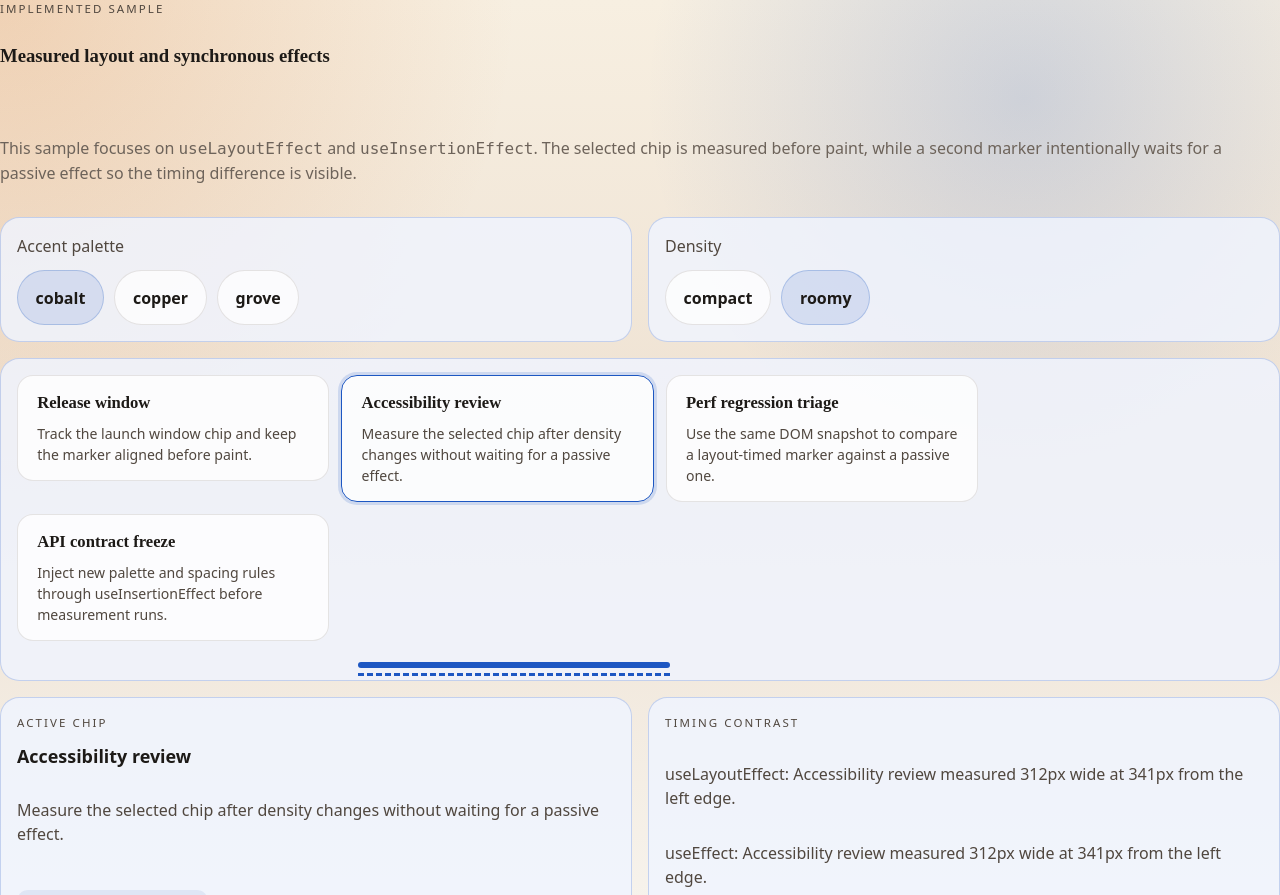
Scenario: layout effects sample › updates the active chip, palette, and density observations
The width and height of the screenshot is (1280, 895).
Click the button "copper". click: [160, 298]
box: [114,270,207,325]
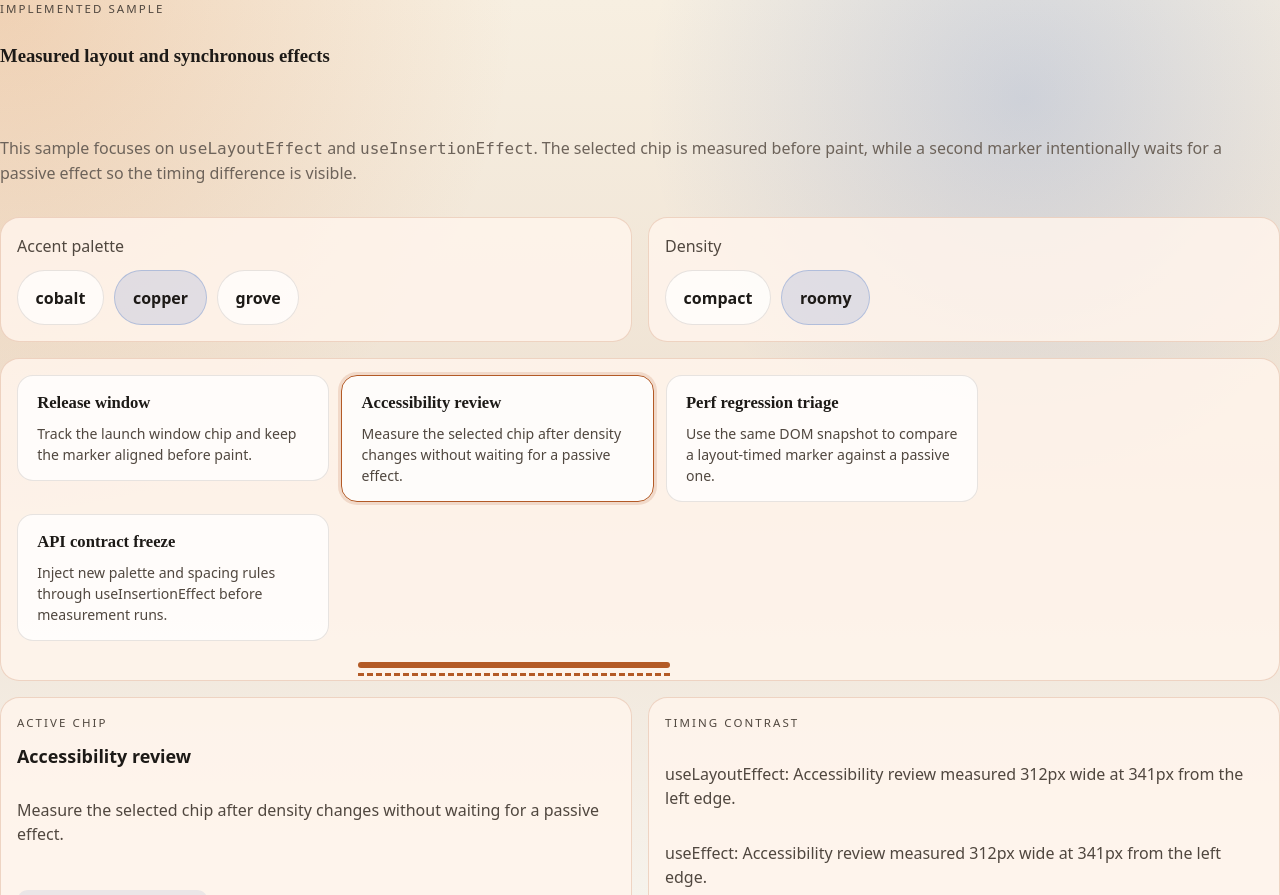
Click the button "compact". click: [718, 298]
box: [665,270,771,325]
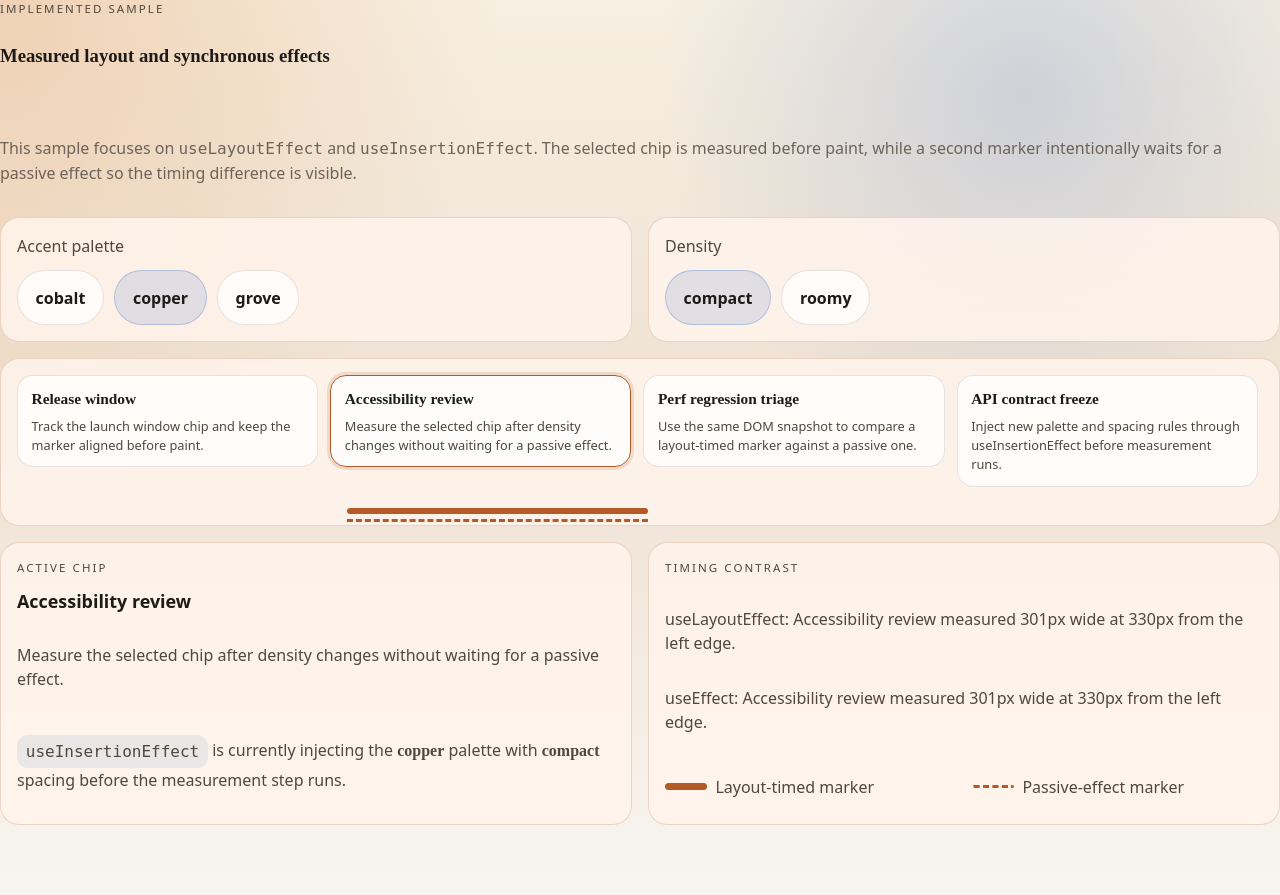
Click the button "Perf regression triage". click: [794, 421]
box: [643,375,945,467]
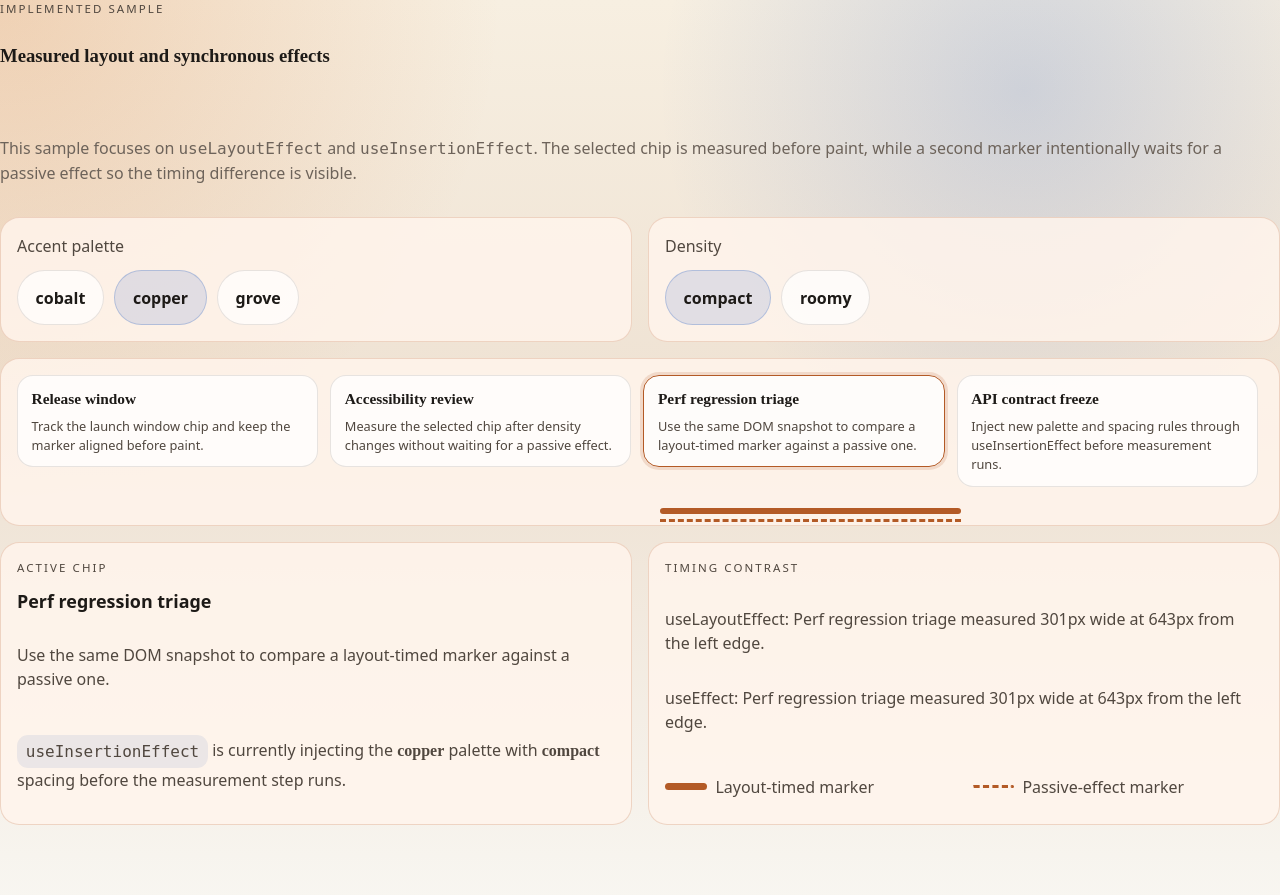
Expected: the text "copper" is shown, [397,742,444,760]
Expected: the text "compact" is shown, [542,742,600,760]
Expected: the heading "Perf regression triage" is shown, [17,589,212,613]
